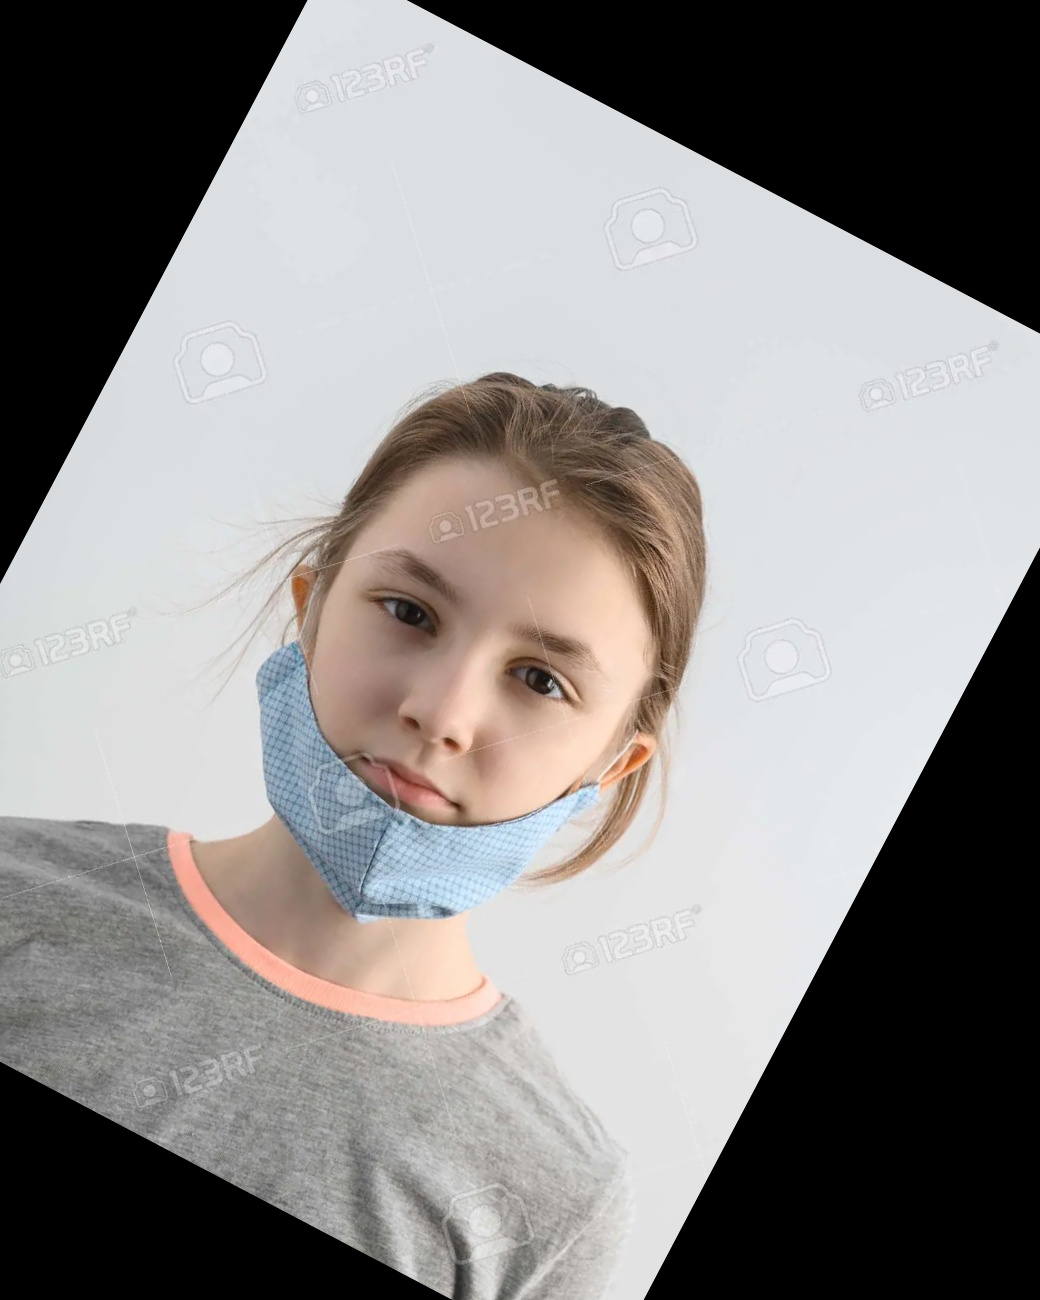mask_weared_incorrect: (291, 436, 657, 913)
